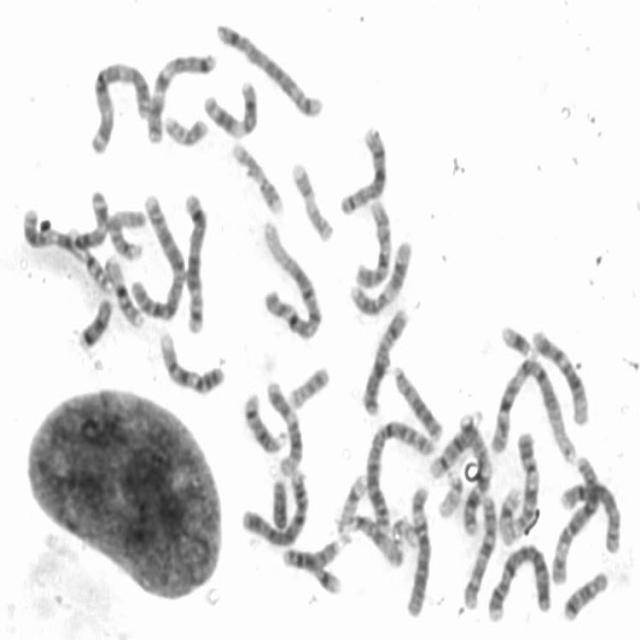A1: (489, 350, 580, 465), (257, 214, 324, 342)
A2: (362, 413, 439, 534), (126, 186, 188, 323)
A3: (85, 55, 154, 156), (18, 184, 112, 253)
B4: (238, 465, 312, 550), (483, 537, 554, 624)
B5: (212, 17, 326, 120), (179, 185, 210, 335)
C10: (459, 491, 499, 611), (351, 193, 395, 290)
C11: (346, 234, 415, 317), (200, 73, 260, 140)
C12: (528, 322, 592, 427), (263, 376, 305, 477)
C6: (548, 449, 602, 586), (399, 480, 433, 620)
C7: (143, 45, 220, 146), (456, 408, 494, 538)
C8: (556, 476, 623, 556), (335, 120, 390, 217)
C9: (154, 324, 228, 396), (509, 426, 541, 537)
D13: (386, 359, 444, 442), (278, 530, 352, 572)
D14: (426, 406, 486, 480), (240, 386, 288, 455)
D15: (344, 508, 408, 569), (103, 202, 148, 263)
E16: (100, 250, 146, 330), (66, 235, 111, 292)
E17: (227, 135, 286, 217), (288, 156, 336, 244)
E18: (559, 564, 611, 623), (74, 292, 114, 351)
F19: (334, 468, 370, 530), (496, 481, 524, 546)
F20: (285, 359, 332, 411), (159, 108, 210, 148)
G21: (496, 318, 536, 359), (305, 558, 344, 598)
G22: (434, 466, 465, 520), (388, 511, 420, 550)
X: (358, 303, 412, 417)
Y: (268, 473, 290, 532)
